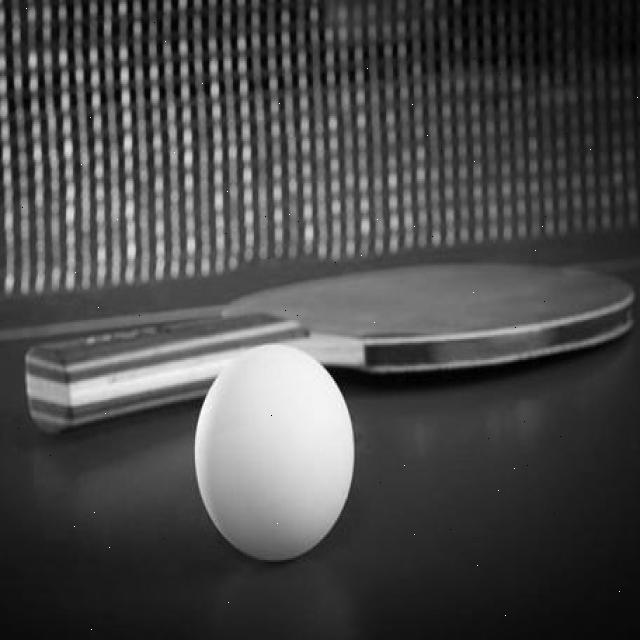ping-pong-ball: (190, 337, 356, 566)
